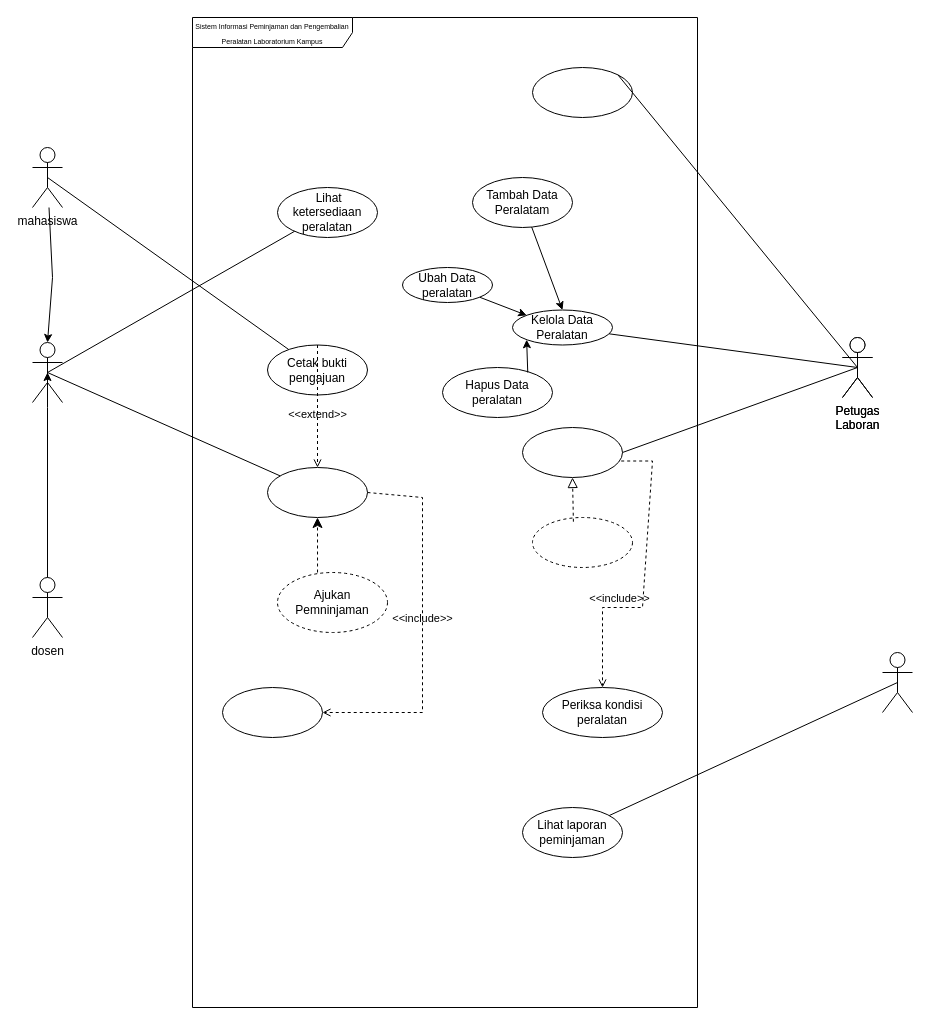
This 936x1025 diagram has some shape labels left out. The box of each missing label's shape, as (x1, y1, x2, y2) in pixels:
Ajukan peminjaman: (266, 466, 368, 518)
Catat Pengembalian Barang: (532, 516, 632, 568)
Catat Pengembalian Peralatan: (522, 426, 622, 478)
kepala Laboran: (882, 652, 912, 712)
peminjam,: (32, 342, 62, 402)
Periksa ketersediaan: (222, 686, 322, 738)
Proses keputusan peminjaman: (532, 66, 632, 118)
